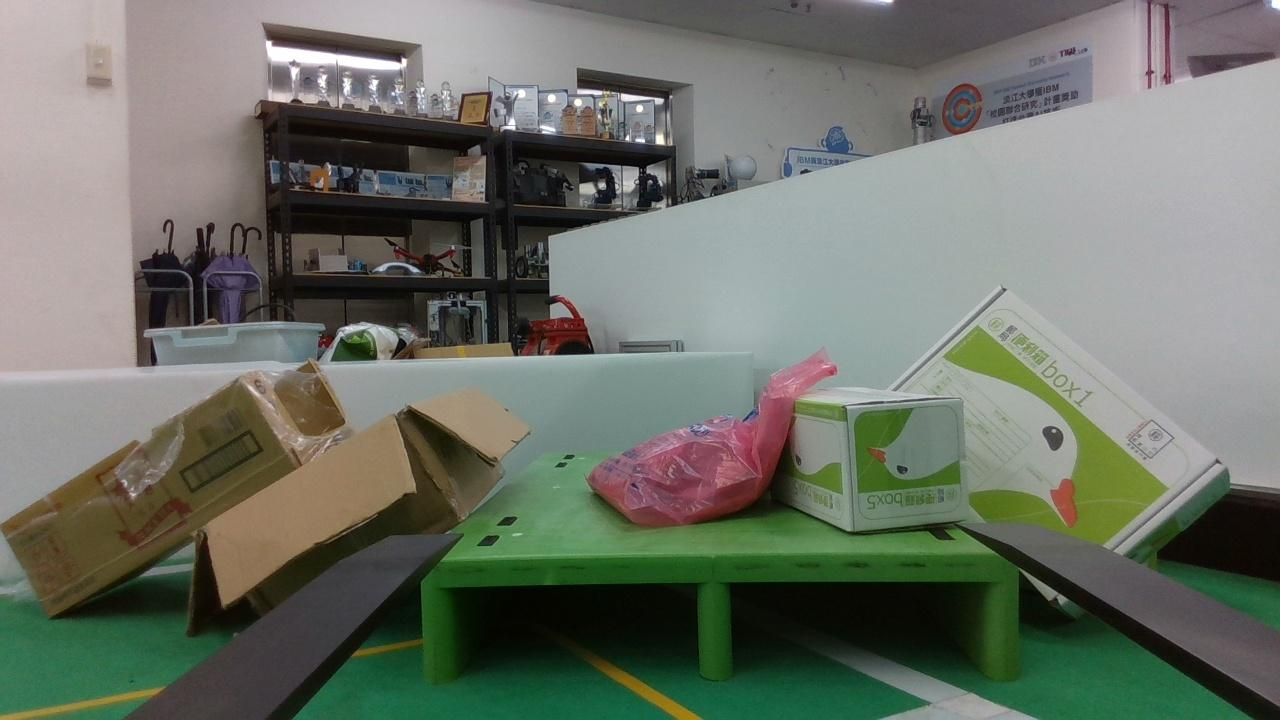Pallet: (419, 550, 1021, 682)
